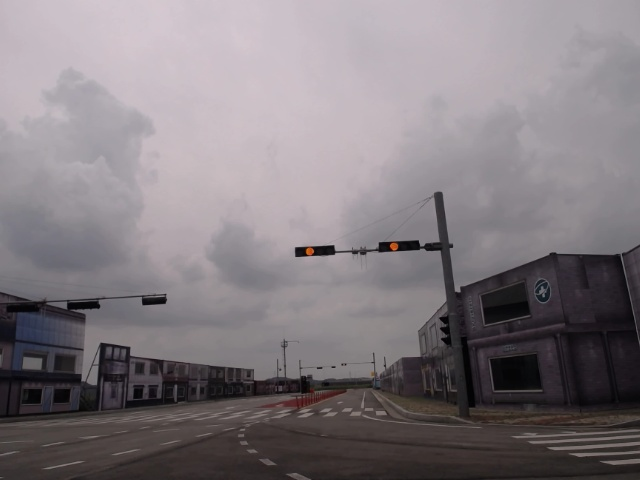orange_4: (378, 239, 422, 255), (292, 244, 337, 259)
